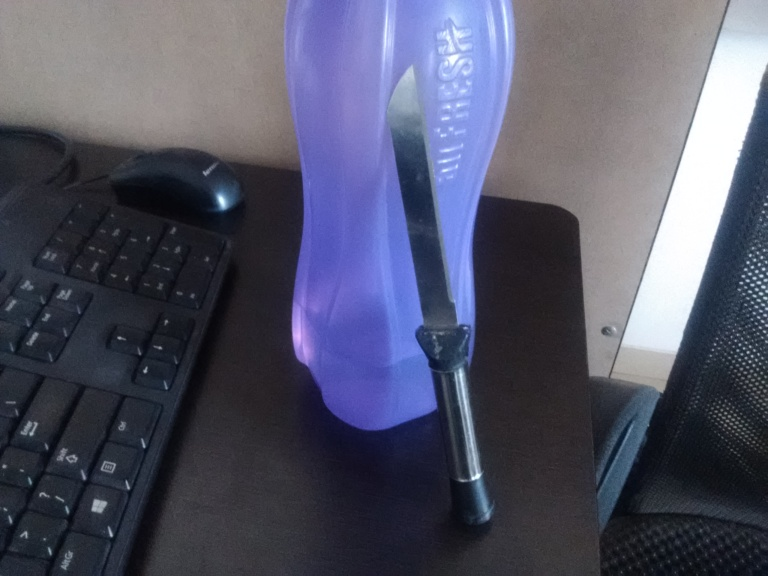knife: (380, 62, 496, 529)
